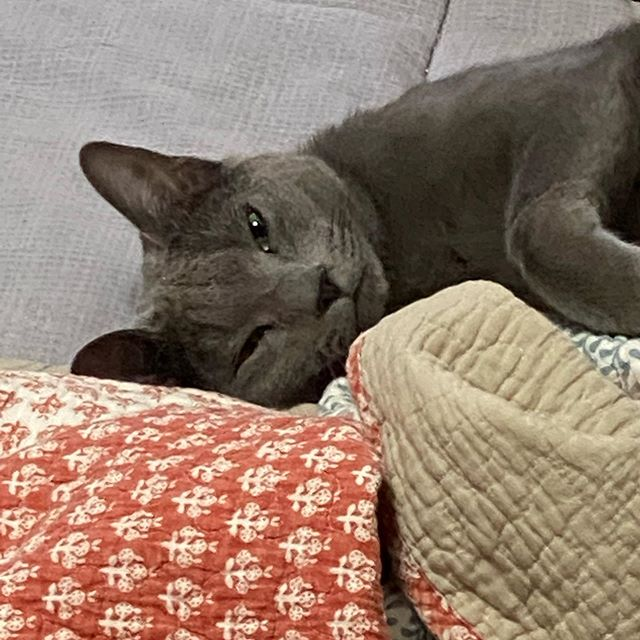cat: (70, 133, 385, 409)
